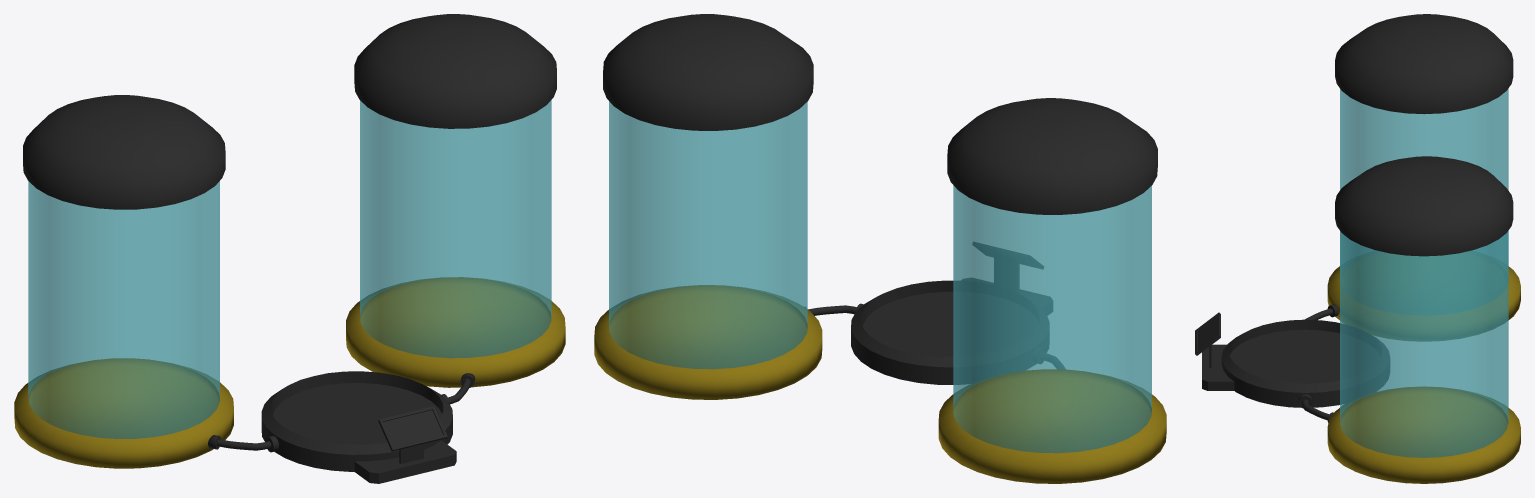
File: MergeMachine.fbx
3 renders of one model, left to right at view 1: azimuth 30°, elevation 25°; view 2: azimuth 150°, elevation 25°; view 3: azimuth 270°, elevation 25°, orthographic. The views are drawn at different scales.
Visible parts, largest first — view 1: MergeMachine; view 2: MergeMachine; view 3: MergeMachine.
Part boxes in pixels (<box>): MergeMachine: <box>14,14,565,483</box>; MergeMachine: <box>594,14,1166,483</box>; MergeMachine: <box>1195,14,1520,483</box>.
Size of the model in its own units: 6.28 by 3.54 by 3.86.
